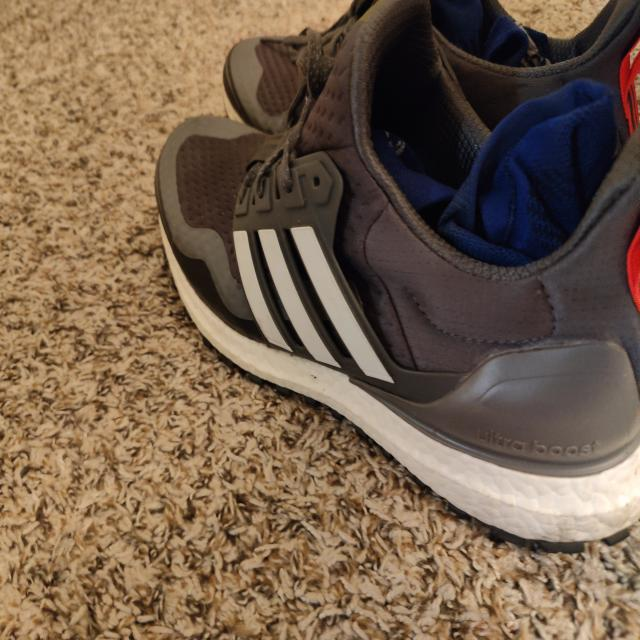black shoes: (178, 38, 640, 498)
